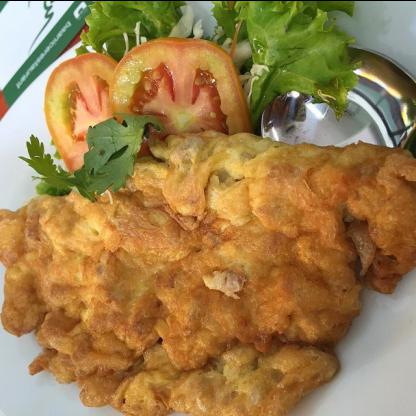Omelette: (0, 56, 415, 416)
